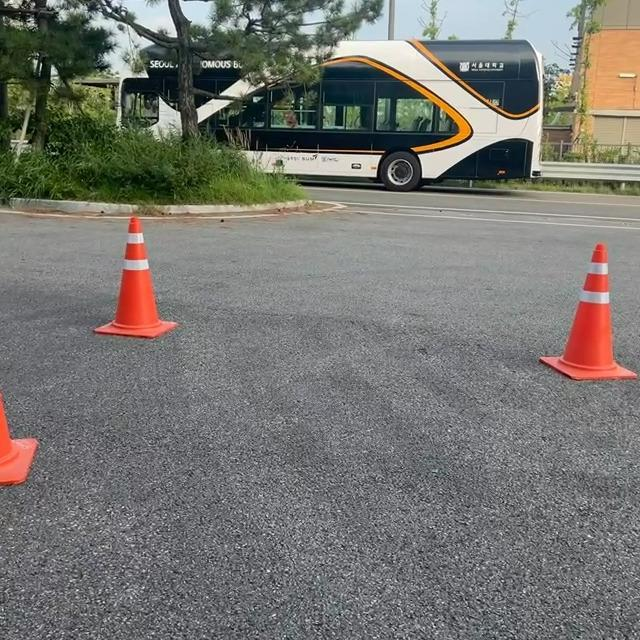fallen_object: (0, 353, 132, 571), (527, 216, 632, 443), (96, 196, 208, 363)
